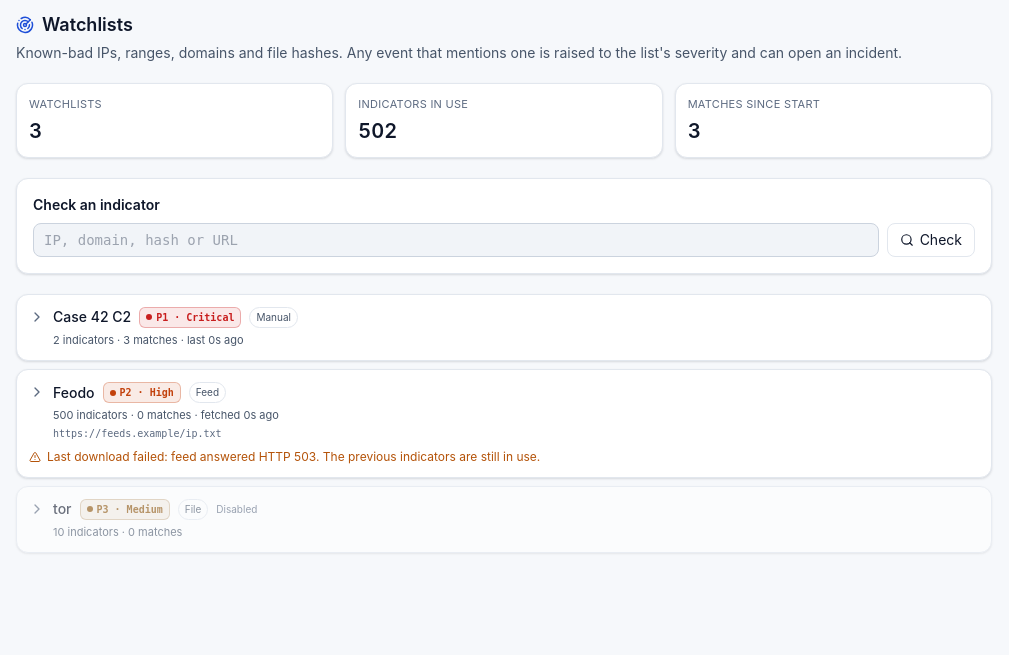
Test: Watchlists page › viewers can browse but not change anything
The width and height of the screenshot is (1009, 655).
Expected: the list named "Watchlists" is shown, [16,294,992,553]
Click the button "Case 42 C2": (92, 316) [29,306,979,348]
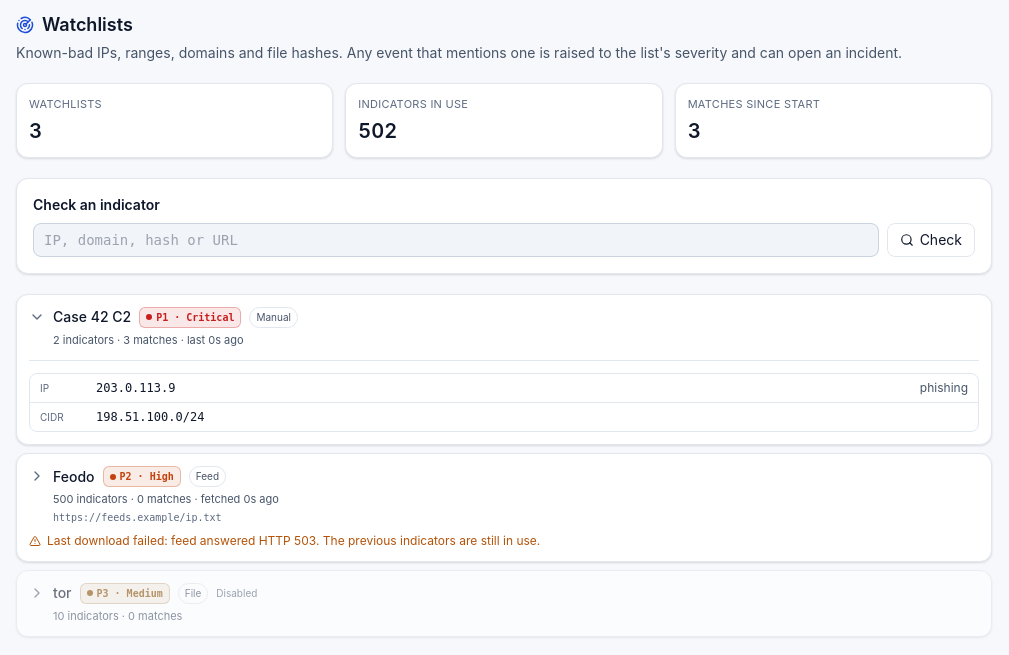
Now the list named "Indicators of Case 42 C2" is shown, box [29,373,979,432]
